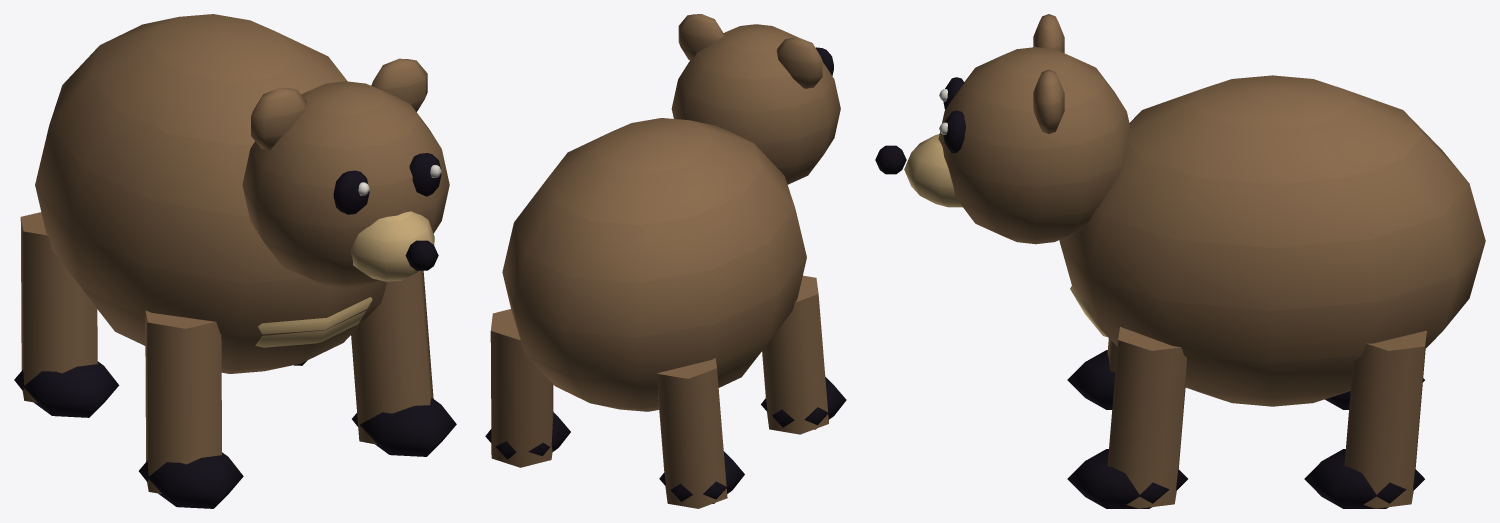
File: monster_cave_bear.glb
3 views of the same model, side by side, from view 1: azimuth 30°, elevation 25°; view 2: azimuth 150°, elevation 25°; view 3: azimuth 270°, elevation 25° (orthographic). The views are drawn at different scales.
Parts seen in each view (by area): view 1: body_t0_palette, legl_t0_palette, legr_t0_palette; view 2: body_t0_palette, legl_t0_palette, legr_t0_palette; view 3: body_t0_palette, legr_t0_palette, legl_t0_palette.
Part boxes in pixels (x1,y1,x2,y2): body_t0_palette: (35,14,449,373); legl_t0_palette: (14,212,243,508); legr_t0_palette: (294,270,456,456); body_t0_palette: (502,14,840,411); legl_t0_palette: (657,275,846,508); legr_t0_palette: (485,309,570,467); body_t0_palette: (875,14,1485,406); legr_t0_palette: (1067,327,1426,508); legl_t0_palette: (1067,338,1424,409).
Size of the model in its own units: 0.252 by 0.3443 by 0.464.
